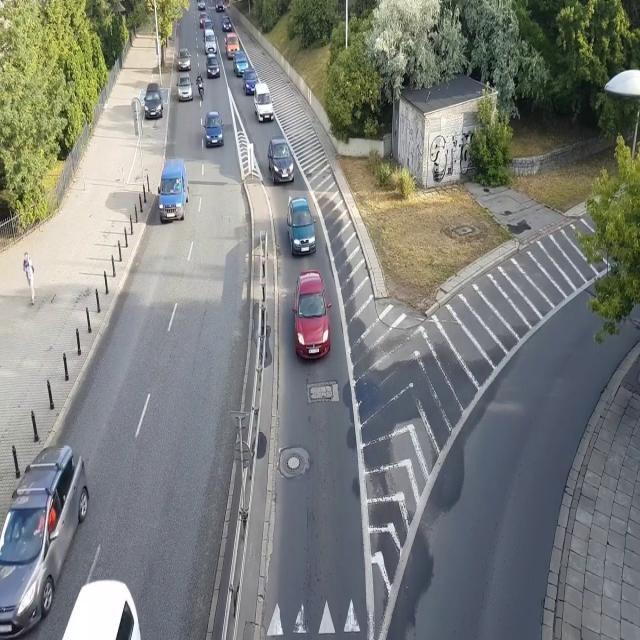car: (0, 443, 89, 640), (57, 577, 141, 640), (291, 269, 333, 362), (287, 193, 318, 258), (266, 137, 296, 185), (202, 110, 225, 149), (143, 81, 164, 119), (175, 74, 194, 104), (242, 67, 259, 96), (233, 50, 250, 78), (177, 47, 193, 74), (206, 52, 220, 80), (222, 15, 232, 32), (198, 11, 208, 27), (214, 0, 225, 13), (197, 0, 206, 10)
motorcycle: (195, 71, 205, 101)
truck: (224, 31, 241, 59)
van: (156, 159, 190, 225), (253, 80, 274, 122), (203, 29, 217, 55)
